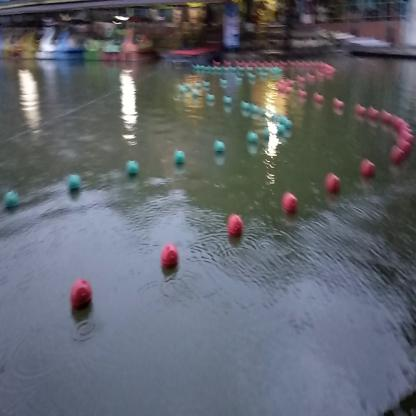green_buoy: (5, 190, 18, 210), (68, 174, 81, 192), (127, 160, 139, 177), (214, 141, 225, 156), (175, 150, 185, 164), (249, 132, 258, 144), (285, 120, 293, 131), (278, 126, 286, 137), (280, 116, 286, 127)
red_buoy: (71, 279, 92, 313), (161, 244, 180, 271), (282, 193, 298, 213), (228, 215, 242, 236), (361, 157, 375, 177), (326, 173, 340, 192), (399, 139, 411, 155), (392, 148, 402, 164)
